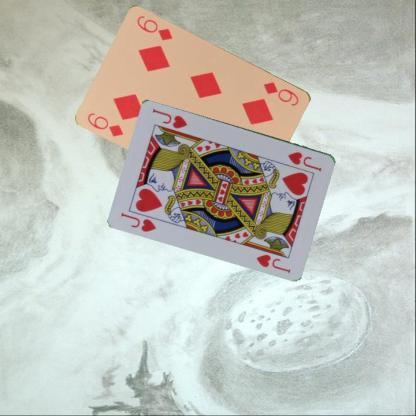6d: (260, 79, 300, 107), (85, 110, 125, 138)
Jh: (286, 148, 324, 173), (118, 210, 158, 233)
